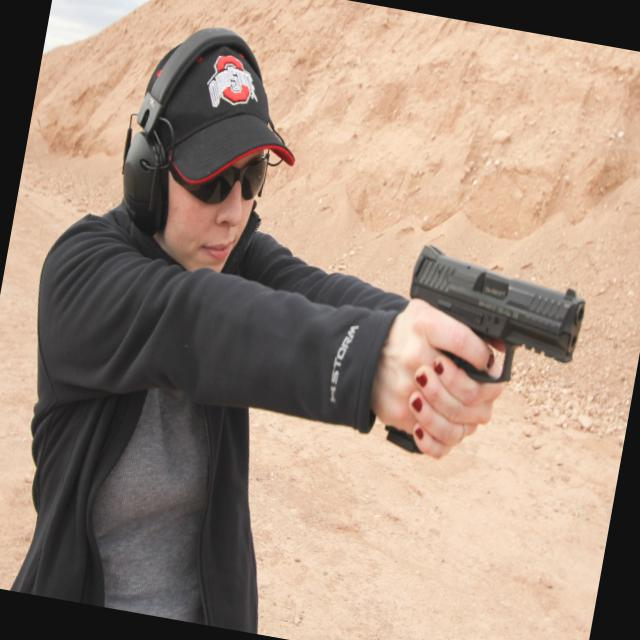handgun: (366, 229, 590, 515)
